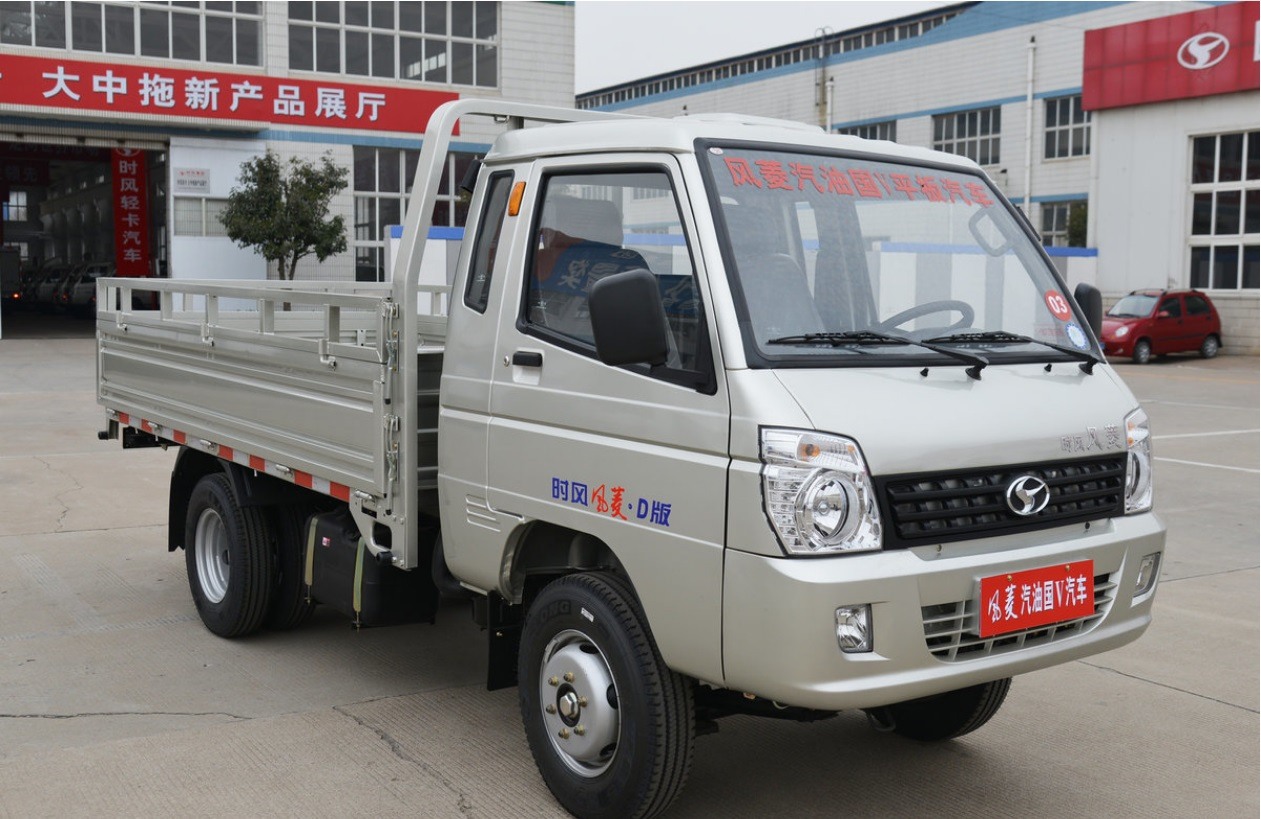truck: (79, 97, 1173, 819)
